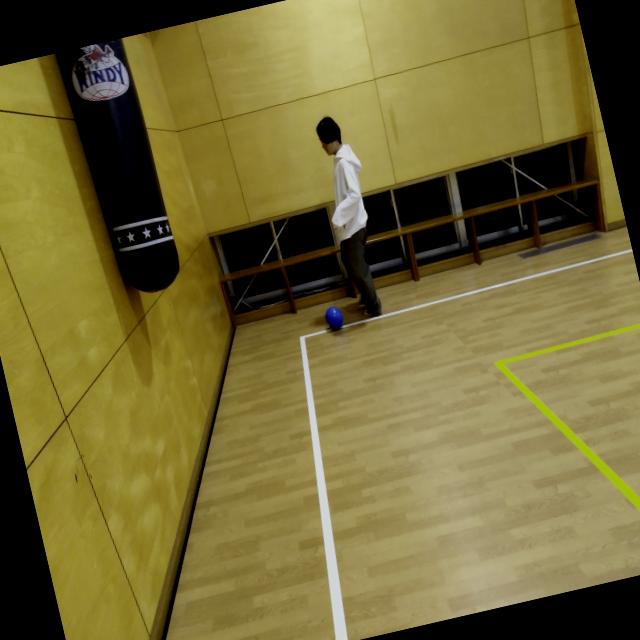blue_ball: (318, 299, 349, 337)
